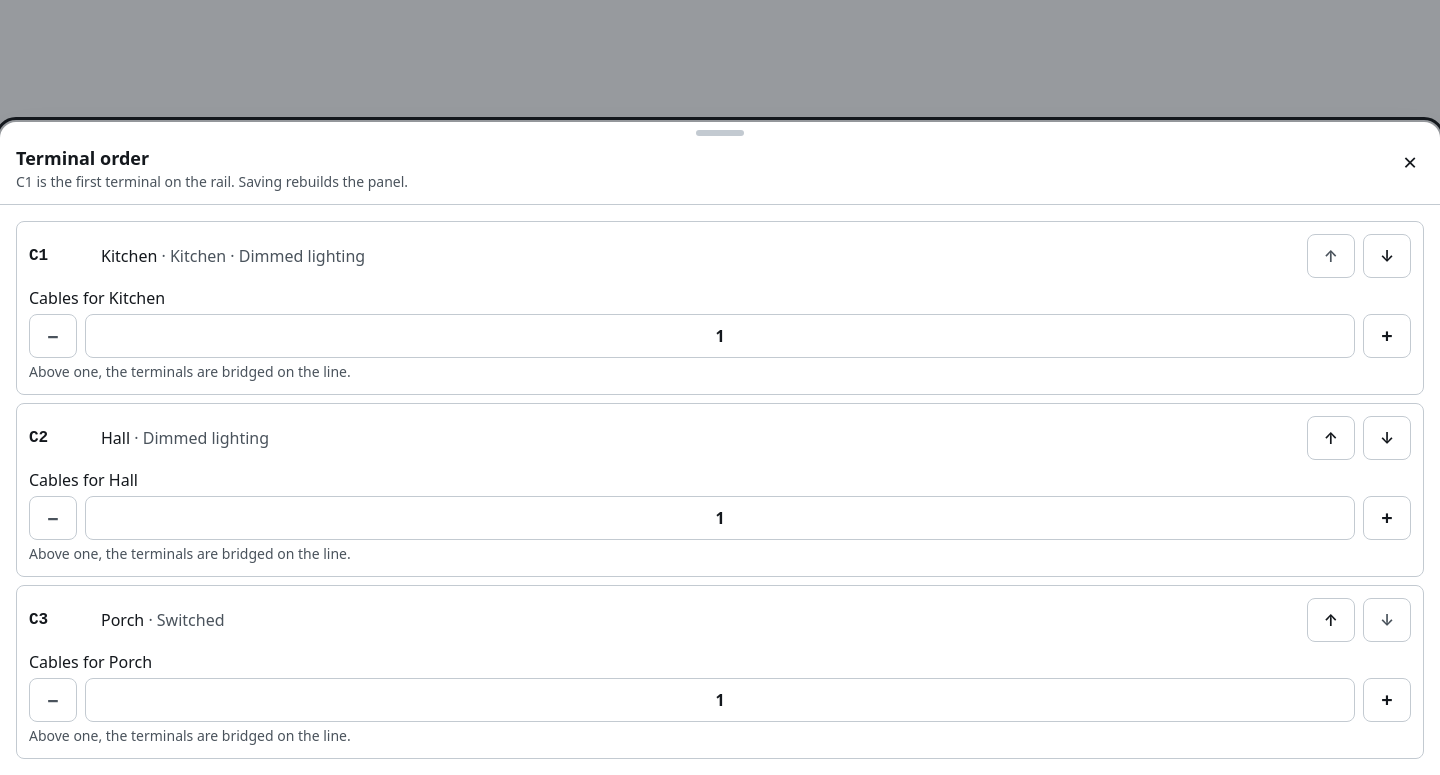
Test case: TerminalSheet › shows the range when a circuit lands on several terminals
The image size is (1440, 775).
What coordinates should you click on to do the following:
click the button named "more cables"
I would click on:
 (1387, 518)
Its box is [1363, 496, 1411, 540].
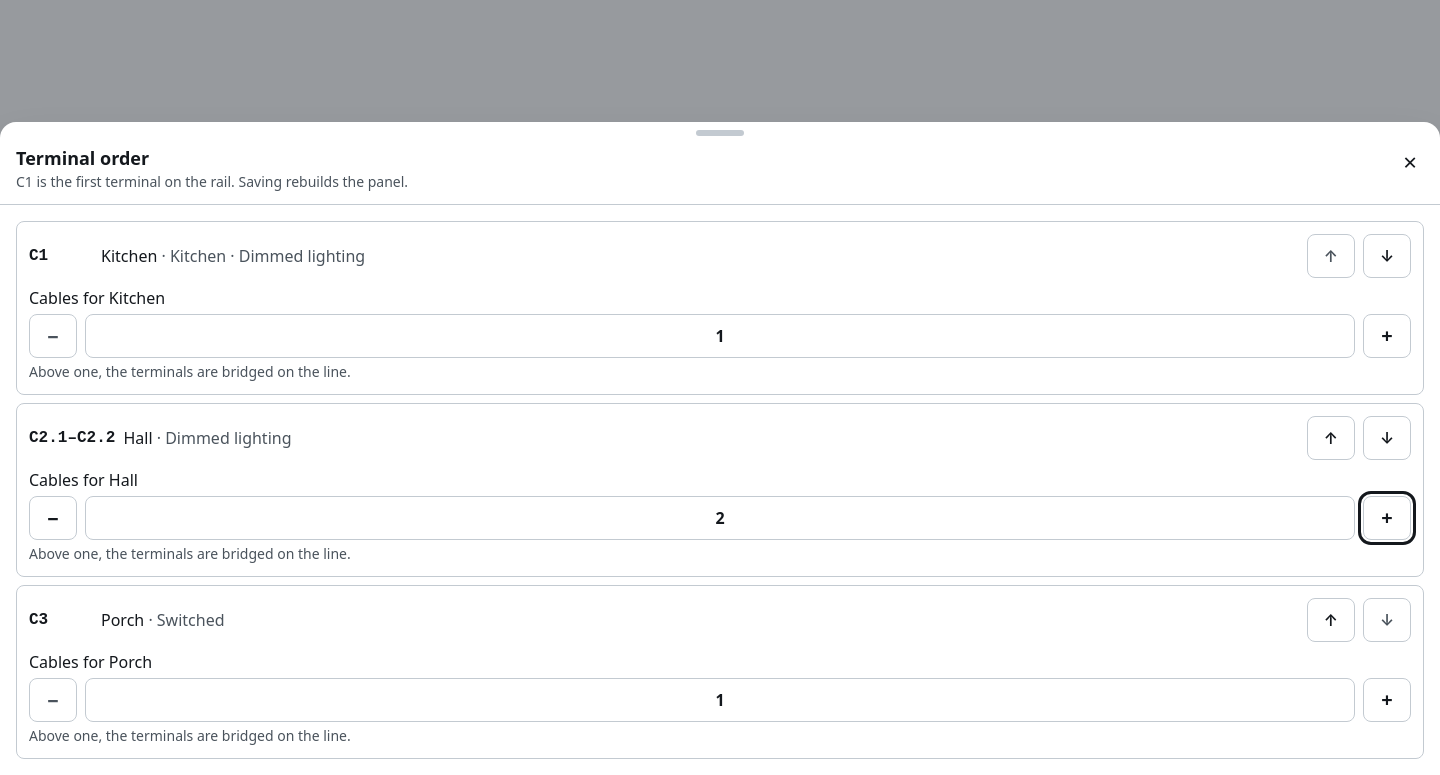
What coordinates should you click on to do the following:
click the button named "more cables"
I would click on:
 (1387, 518)
Its box is [1363, 496, 1411, 540].
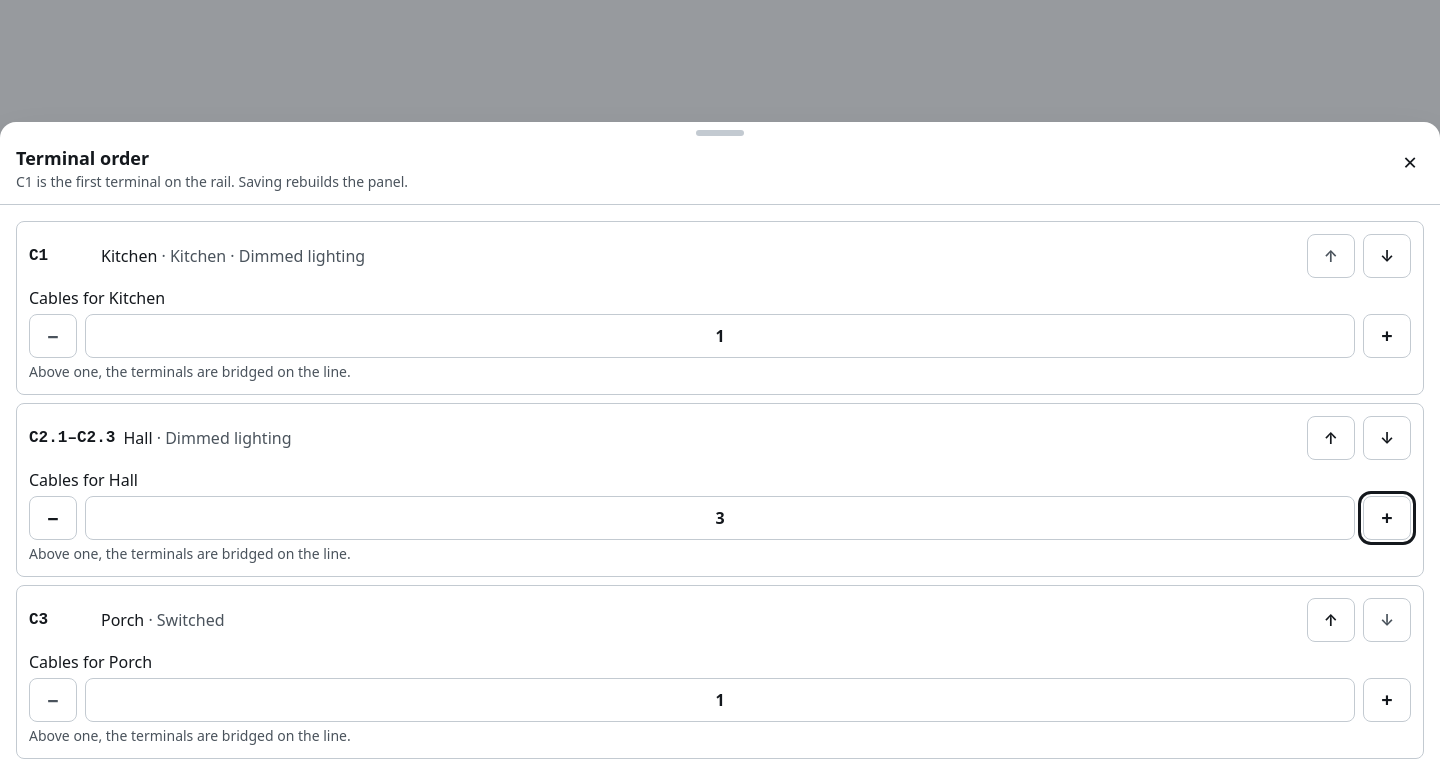
Check: the text with test id "terminal" reads "C2.1–C2.3", box [29, 428, 115, 446]
